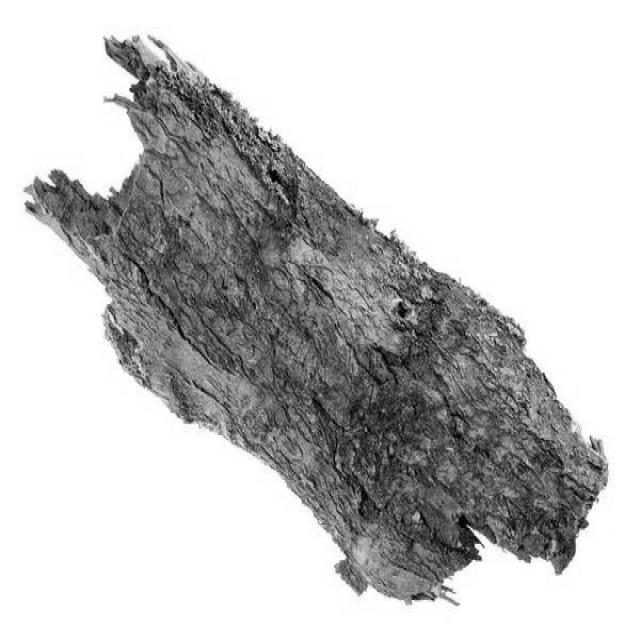Tree: (27, 37, 609, 601)
